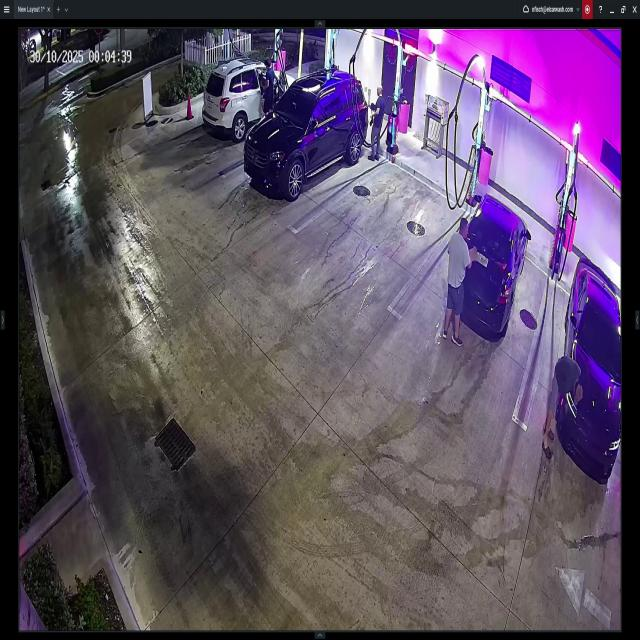Car: (248, 66, 368, 195), (559, 256, 621, 483), (443, 190, 531, 340), (202, 51, 300, 139)
